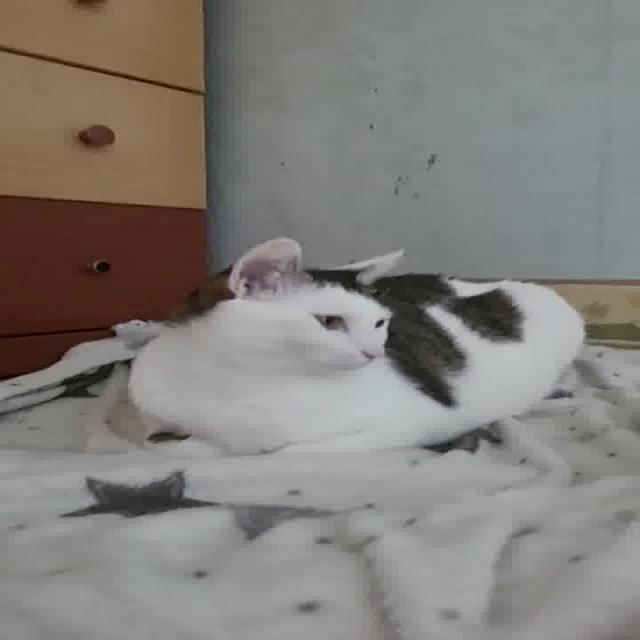cat: (112, 234, 598, 461)
